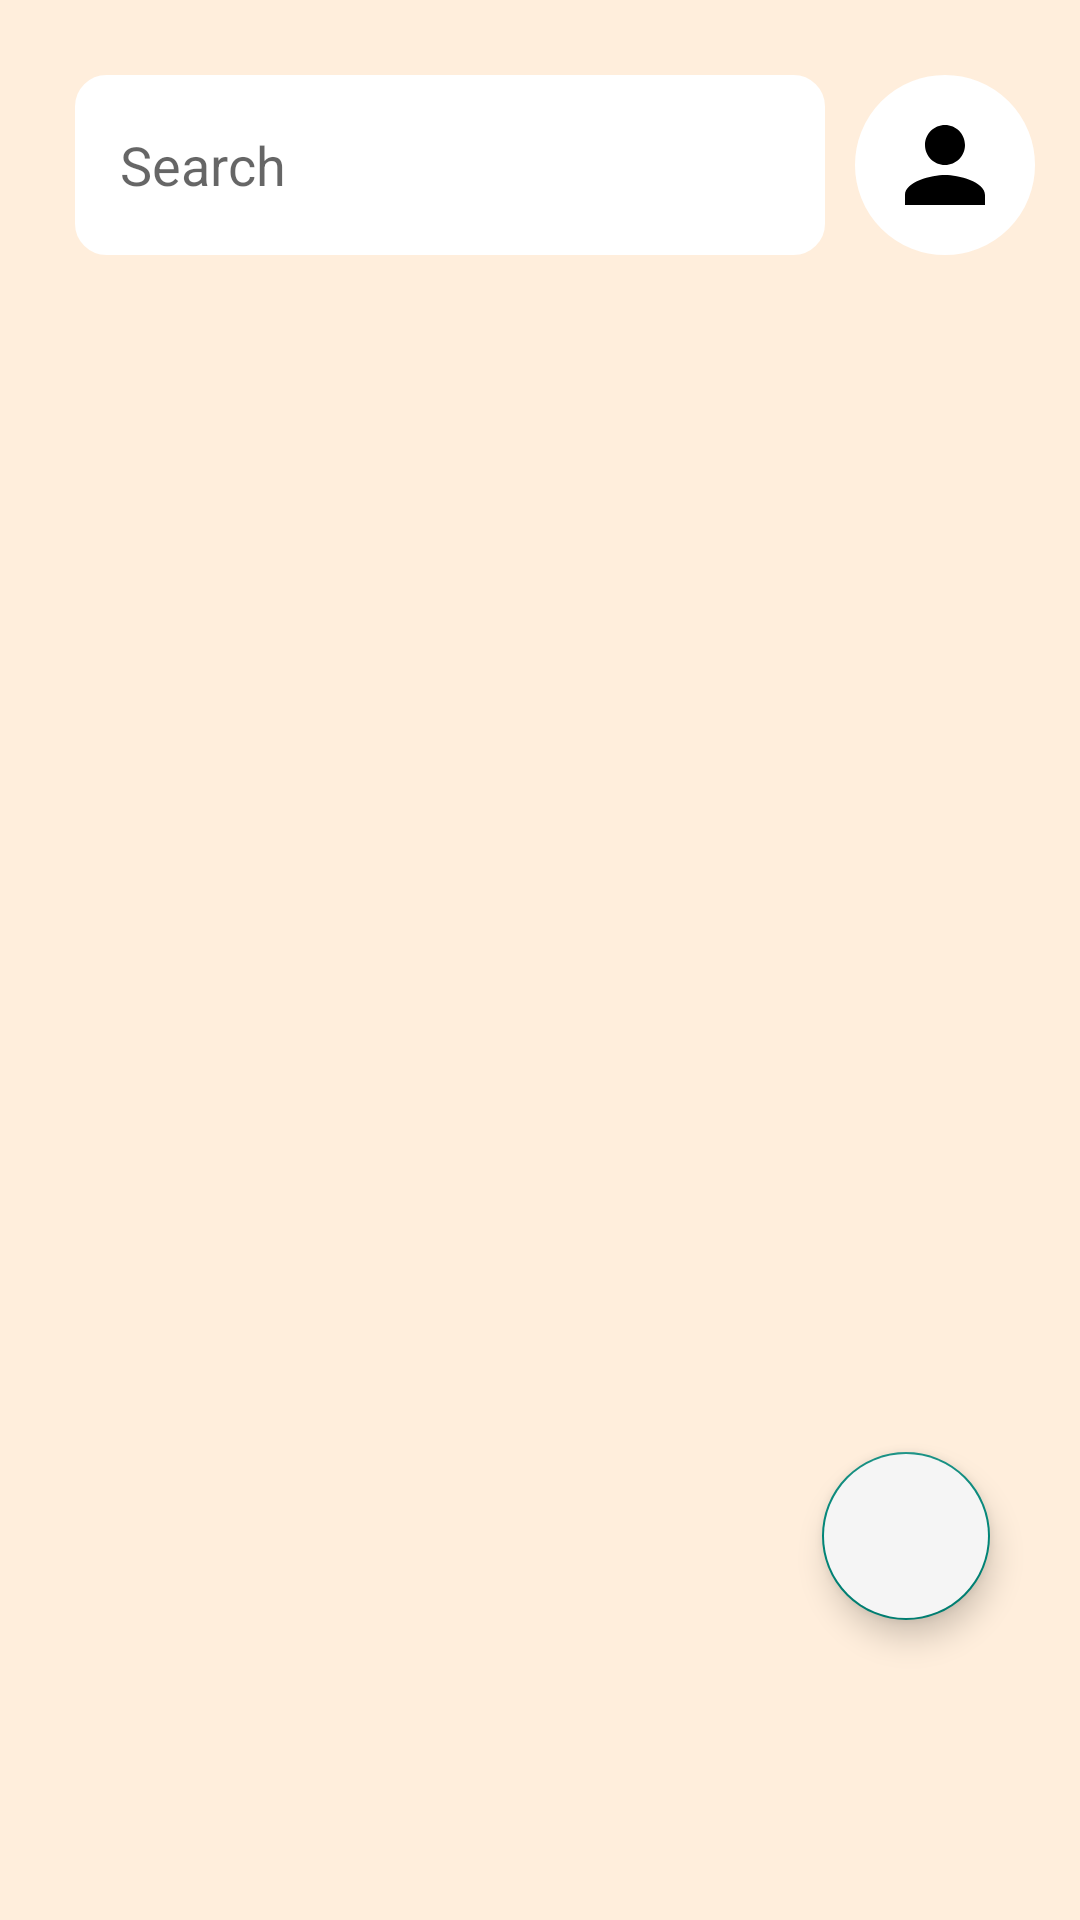

Icons on this 1080w x 1920h Android screen, each with the point to tap as (x=x, y=y):
person: (x=945, y=165)
